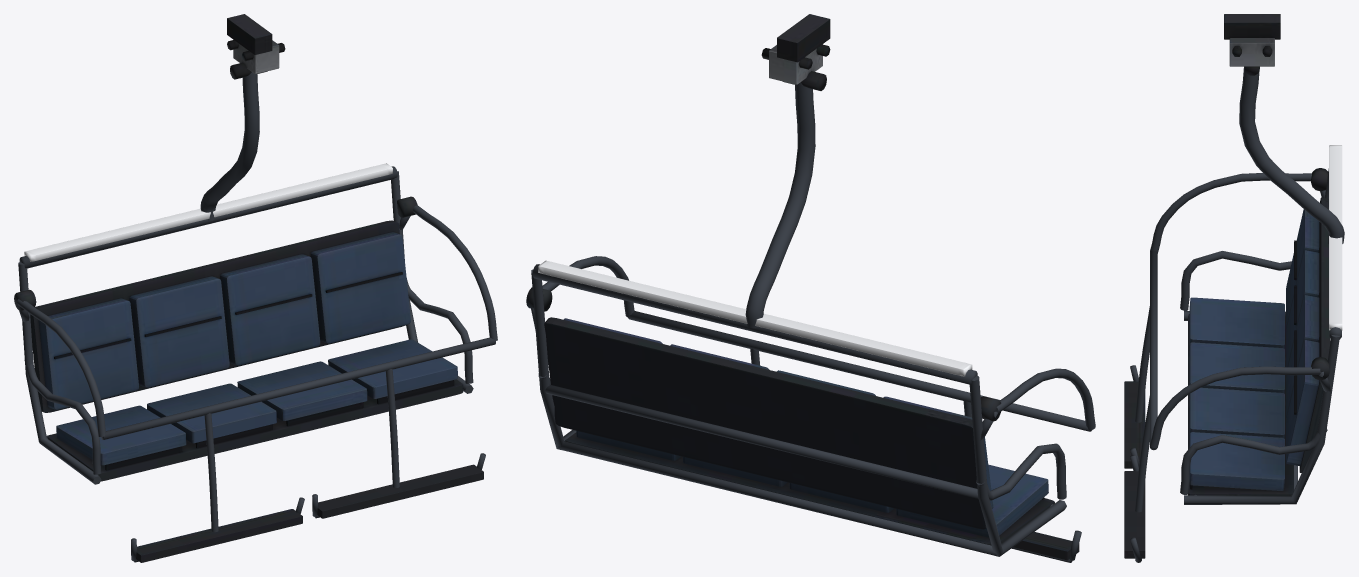
The model's file is chair4_fixed.glb.
3 renders of one model, left to right at view 1: azimuth 30°, elevation 25°; view 2: azimuth 150°, elevation 25°; view 3: azimuth 270°, elevation 25°, orthographic. The views are drawn at different scales.
Parts seen in each view (by area): view 1: chair4_fixed, chair4_fixed_paint, chair4_fixed_snow; view 2: chair4_fixed, chair4_fixed_paint, chair4_fixed_snow; view 3: chair4_fixed, chair4_fixed_paint, chair4_fixed_snow.
Boxes of the visible parts, x1=… form: chair4_fixed: x1=14, y1=14, x2=483, y2=562; chair4_fixed_paint: x1=16, y1=72, x2=497, y2=562; chair4_fixed_snow: x1=24, y1=163, x2=392, y2=261; chair4_fixed: x1=526, y1=14, x2=1079, y2=560; chair4_fixed_paint: x1=531, y1=82, x2=1095, y2=562; chair4_fixed_snow: x1=538, y1=260, x2=972, y2=376; chair4_fixed: x1=1124, y1=14, x2=1330, y2=558; chair4_fixed_paint: x1=1130, y1=66, x2=1344, y2=562; chair4_fixed_snow: x1=1329, y1=145, x2=1342, y2=330.
Bounding box in the file's own units: 2.46 × 2.68 × 1.16.
Materials: 3 (1 with a texture image).
